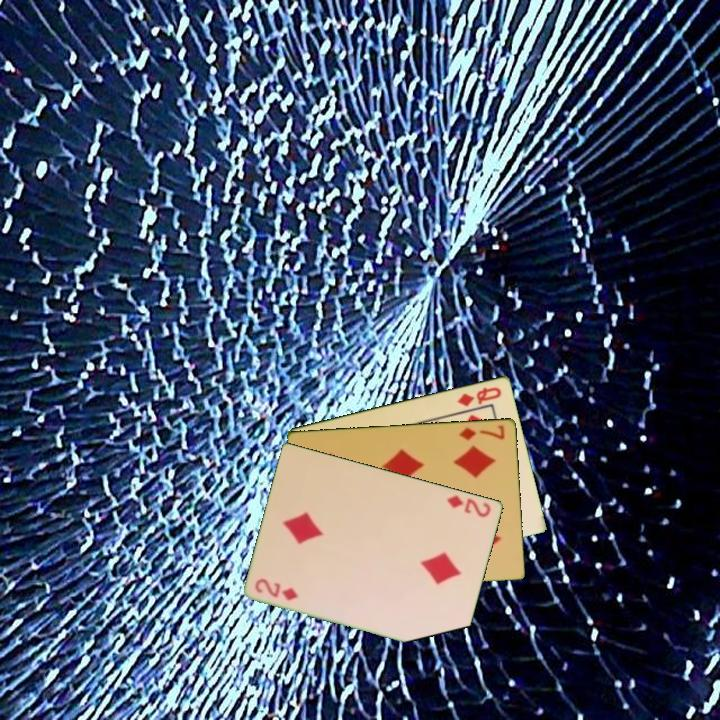2d: (443, 491, 494, 520), (252, 575, 301, 603)
7d: (456, 421, 508, 443)
Qd: (454, 383, 505, 409)
